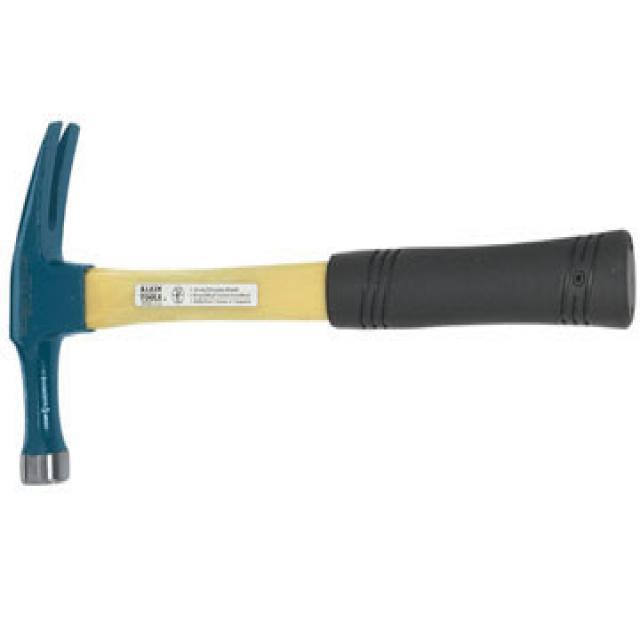hammer: (3, 116, 640, 492)
